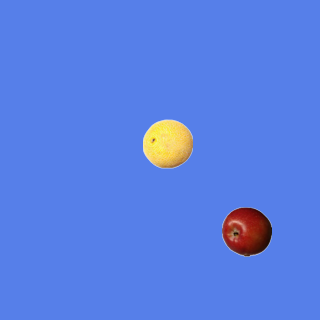Apple Braeburn: (221, 206, 271, 256)
Cantaloupe 1: (142, 118, 192, 168)
